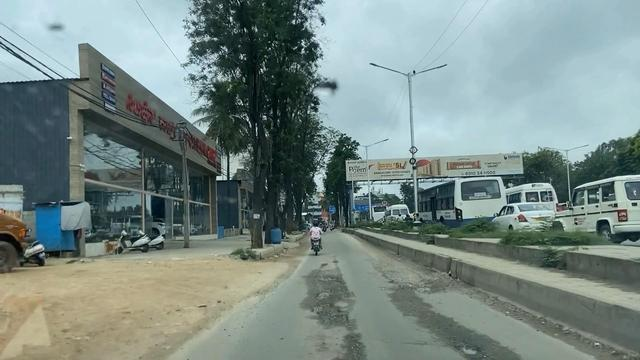RoadDamages: (299, 263, 358, 331), (414, 319, 503, 360), (372, 258, 445, 293), (330, 333, 373, 360)
